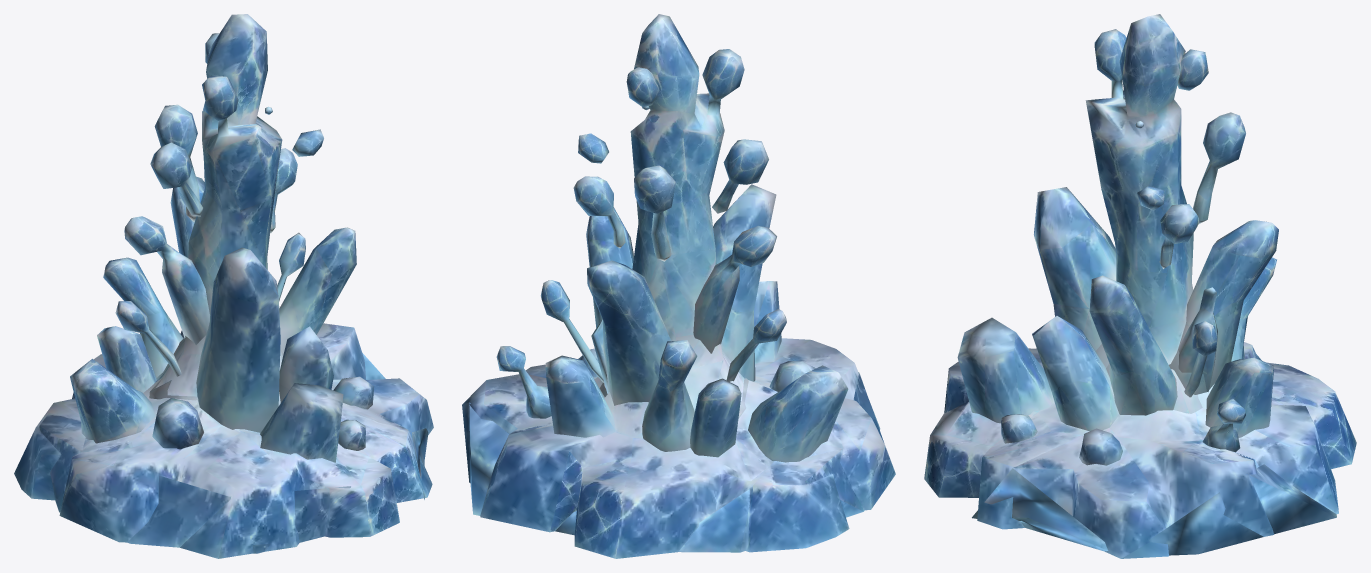
File: ice_pillar_1.glb
3 renders of one model, left to right at view 1: azimuth 30°, elevation 25°; view 2: azimuth 150°, elevation 25°; view 3: azimuth 270°, elevation 25°, orthographic. The views are drawn at different scales.
Size of the model in its own units: 0.8789 by 1 by 0.8594.
Materials: 1 (1 with a texture image).
